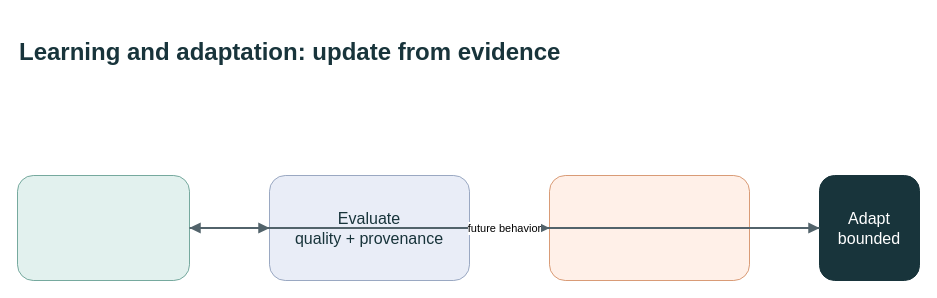
This 937x298 diagram has some shape labels left out. Each missing label, with the centre of its shape:
Experience actions + outcomes: point (103, 227)
Review update test + approve: point (649, 227)
